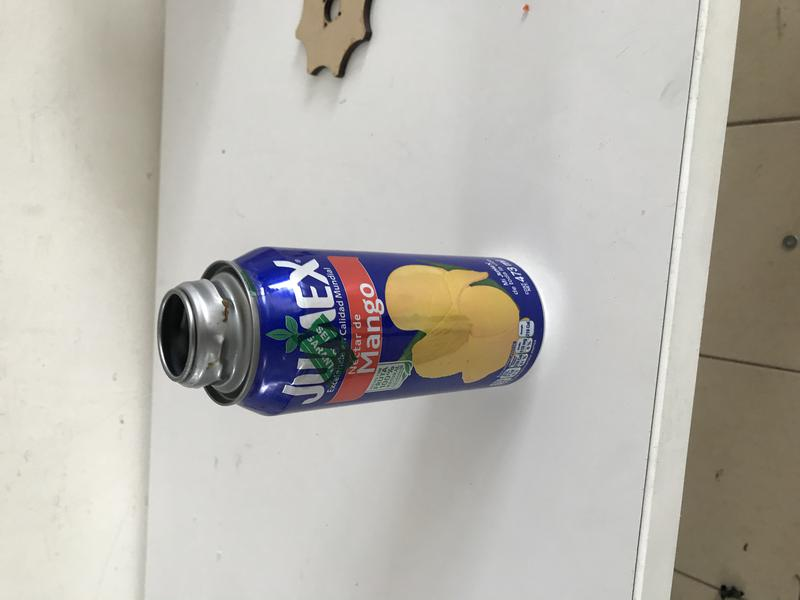jumex_botella: (157, 246, 546, 417)
